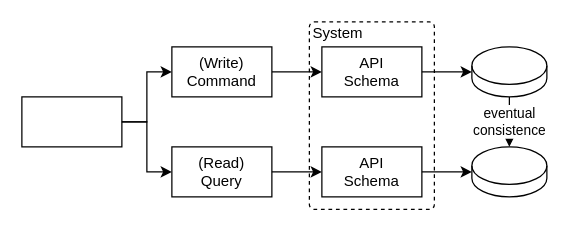
Image size: 569x231. Some labels were removed from this diagram. Here are the shapes that lost their labels. From the top down, the centre of each, then its label:
At point (509, 71): "Write DB".
At point (71, 121): "UI".
At point (509, 171): "Read DB".
